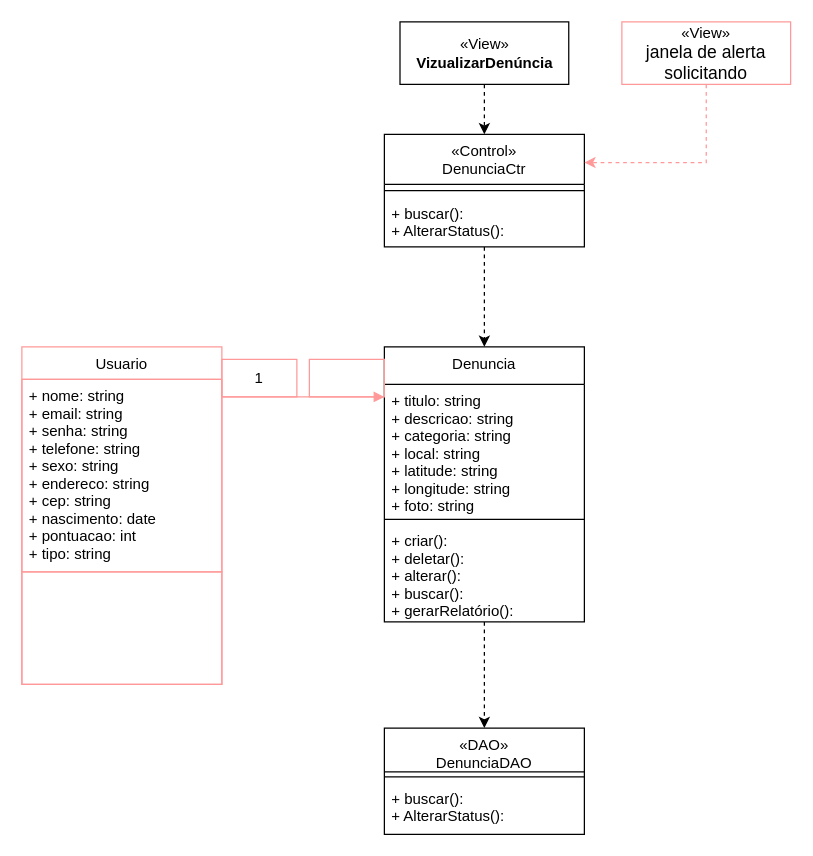
The diagram is 813 pixels wide and 856 high, and some of its shapes have lost their labels. Here are the shapes that lost their labels. From the top down, the centre of each, then its label:
the point at 346,377: 0..n
the point at 121,627: + criar(): + gravar(): + deletar(): + validarSenha(): + atualizarPontos():
